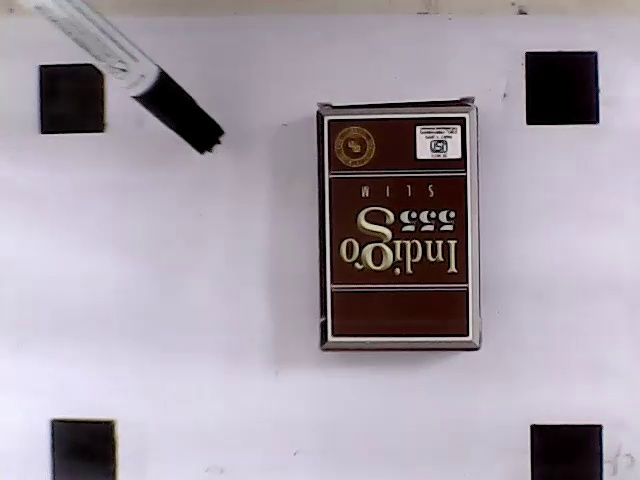BEX: (326, 116, 469, 338)
